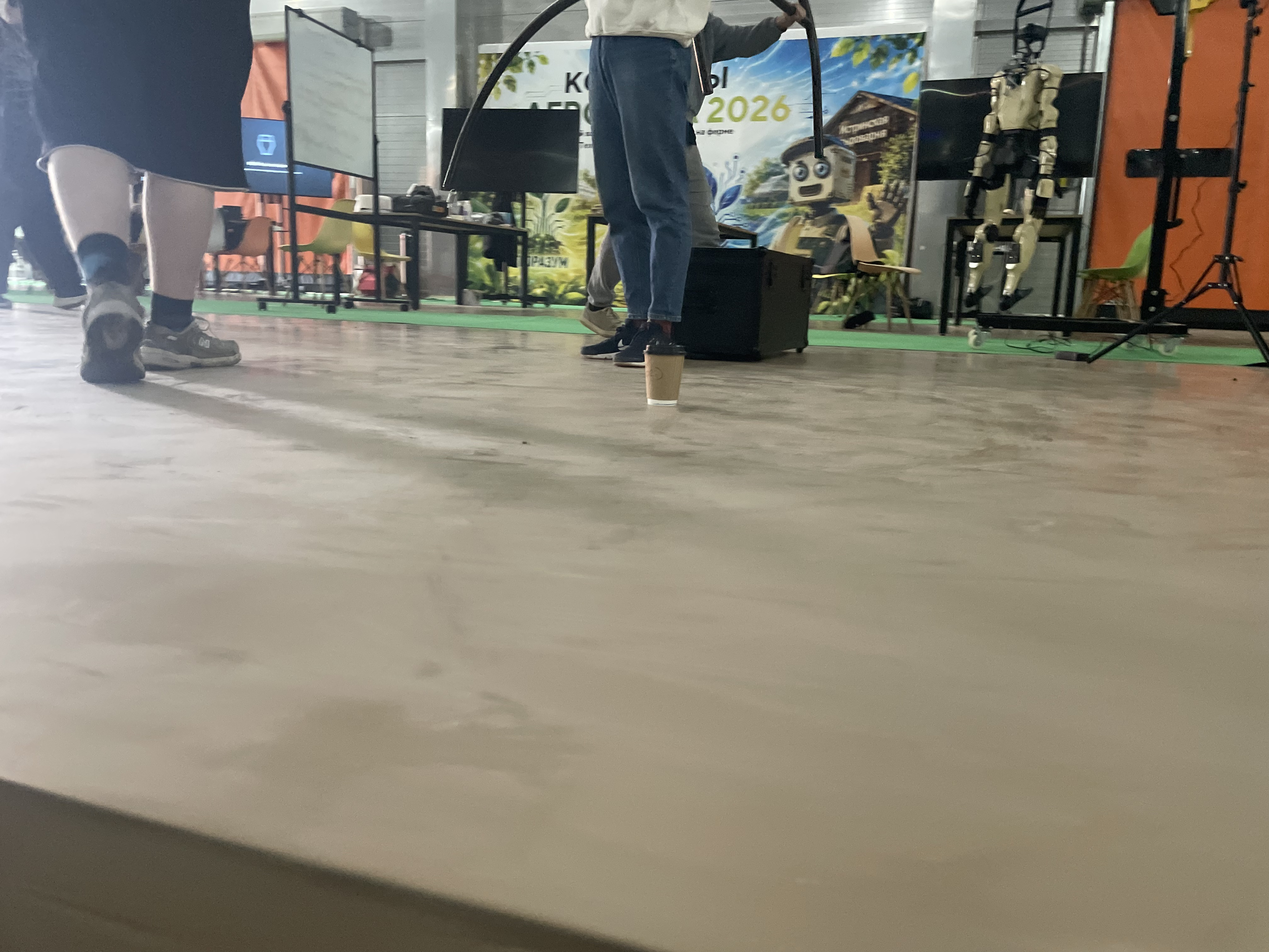cup: (643, 341, 686, 406)
